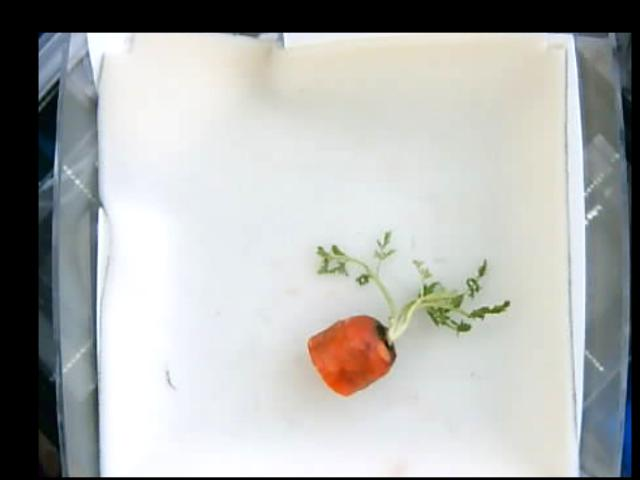Carrot: (309, 231, 510, 397)
